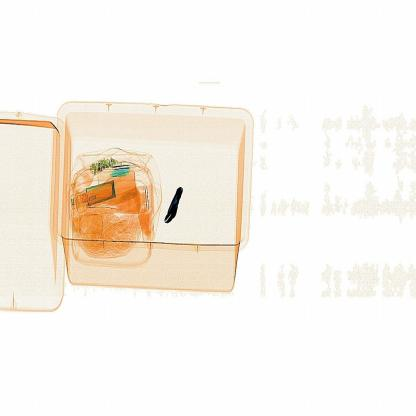knife: (158, 180, 192, 228)
